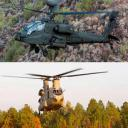helicopter: (7, 3, 123, 60), (29, 65, 78, 122)
